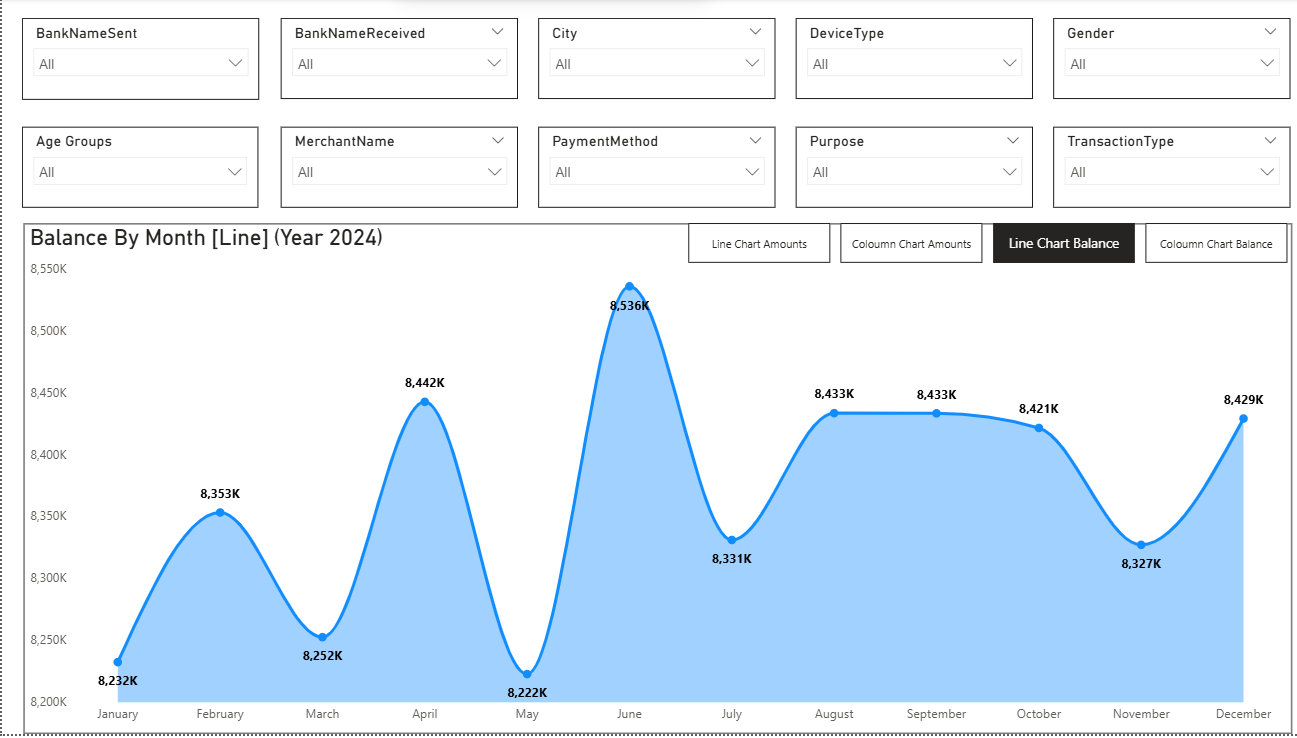

The dashboard page shown, as its layout file describes it:
{"tool":"powerbi","page":{"name":"Page 1","canvas":[1280,720],"ordinal":0},"visuals":[{"type":"slicer","fields":{"Values":["UPI TRANSACTIONS.BankNameSent"]},"box":[20,20,232,80],"z":0},{"type":"slicer","fields":{"Values":["UPI TRANSACTIONS.BankNameReceived"]},"box":[272.7,20,232,79.5],"z":1000},{"type":"slicer","fields":{"Values":["UPI TRANSACTIONS.City"]},"box":[524,20,232.3,79.5],"z":2000},{"type":"slicer","fields":{"Values":["UPI TRANSACTIONS.DeviceType"]},"box":[776,20,232.3,79.5],"z":3000},{"type":"slicer","fields":{"Values":["UPI TRANSACTIONS.Gender"]},"box":[1028,20,232.3,79.5],"z":4000},{"type":"slicer","fields":{"Values":["UPI TRANSACTIONS.Age Groups"]},"box":[19.6,126,231.1,79.5],"z":5000},{"type":"slicer","fields":{"Values":["UPI TRANSACTIONS.MerchantName"]},"box":[272.7,126,232.3,79.5],"z":6000},{"type":"slicer","fields":{"Values":["UPI TRANSACTIONS.PaymentMethod"]},"box":[524.6,126,232.3,79.5],"z":7000},{"type":"slicer","fields":{"Values":["UPI TRANSACTIONS.Purpose"]},"box":[776.5,126,232.3,79.5],"z":8000},{"type":"slicer","fields":{"Values":["UPI TRANSACTIONS.TransactionType"]},"box":[1028.4,126,232.3,79.5],"z":9000},{"type":"lineChart","title":"Balance By Month [Line] (Year 2024)","fields":{"Category":["UPI TRANSACTIONS.TransactionDate.Variation.Date Hierarchy.Month"],"Y":["Sum(UPI TRANSACTIONS.RemainingBalance)"]},"box":[20.5,219.9,1241.4,499.9],"z":14000},{"type":"bookmarkNavigator","box":[671.3,220.1,588.2,39.1],"z":15000}]}

Visuals, with their boxes in screenshot pixels (x1, y1, x2, y2), scaled from the page's 1280x720 canvas onto the 1297x738 screenshot:
slicer - UPI TRANSACTIONS.BankNameSent: bbox(20, 20, 255, 102)
slicer - UPI TRANSACTIONS.BankNameReceived: bbox(276, 20, 511, 102)
slicer - UPI TRANSACTIONS.City: bbox(531, 20, 766, 102)
slicer - UPI TRANSACTIONS.DeviceType: bbox(786, 20, 1022, 102)
slicer - UPI TRANSACTIONS.Gender: bbox(1042, 20, 1277, 102)
slicer - UPI TRANSACTIONS.Age Groups: bbox(20, 129, 254, 211)
slicer - UPI TRANSACTIONS.MerchantName: bbox(276, 129, 512, 211)
slicer - UPI TRANSACTIONS.PaymentMethod: bbox(532, 129, 767, 211)
slicer - UPI TRANSACTIONS.Purpose: bbox(787, 129, 1022, 211)
slicer - UPI TRANSACTIONS.TransactionType: bbox(1042, 129, 1277, 211)
"Balance By Month [Line] (Year 2024)" lineChart: bbox(21, 225, 1279, 737)
bookmarkNavigator: bbox(680, 226, 1276, 266)
